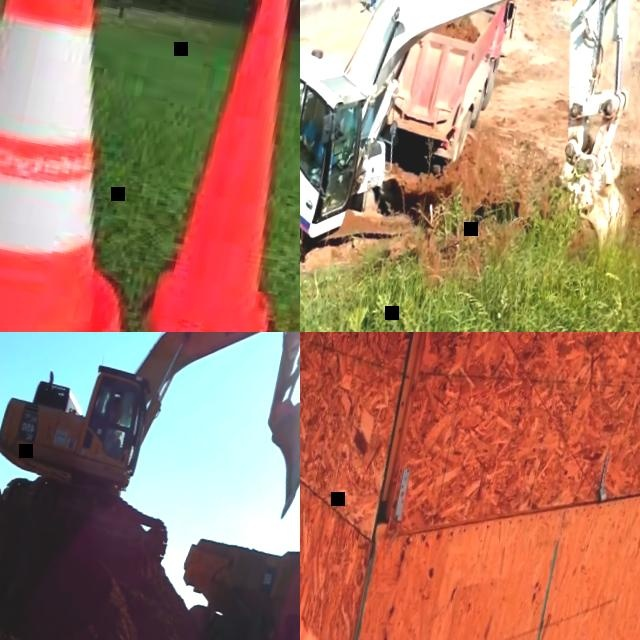NO-Safety Vest: (304, 124, 318, 149)
Person: (300, 105, 345, 169), (98, 402, 131, 456), (365, 0, 387, 13)
Safety Cone: (0, 0, 219, 332), (149, 0, 300, 332)
machinery: (300, 0, 640, 332), (0, 332, 300, 590), (376, 0, 519, 181), (163, 523, 300, 640)
